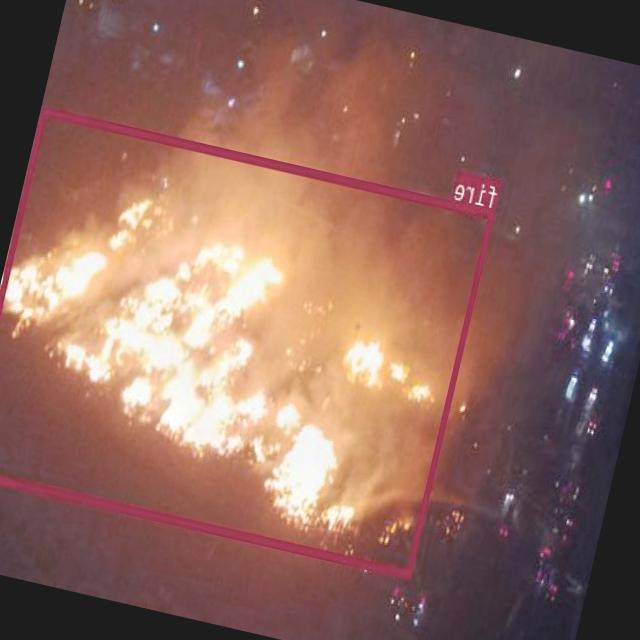fire: (0, 106, 496, 577)
